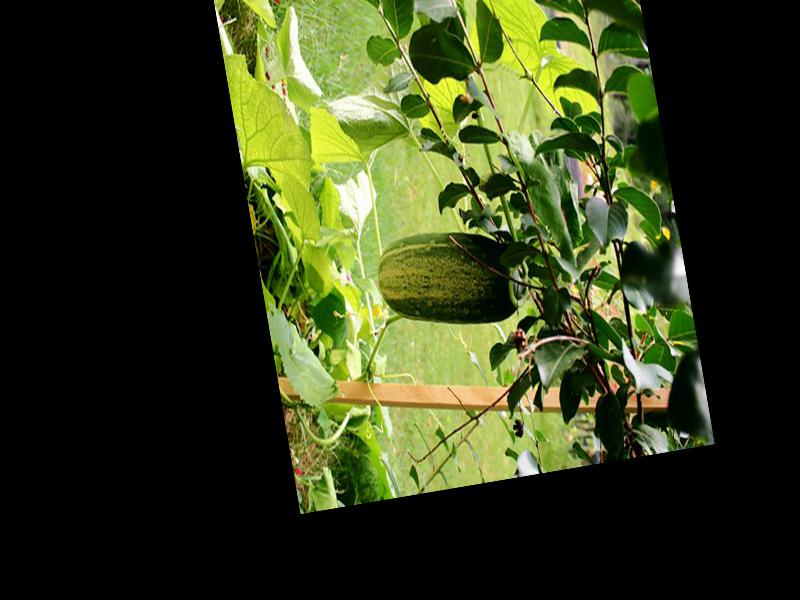Cucumber: (371, 220, 534, 342)
